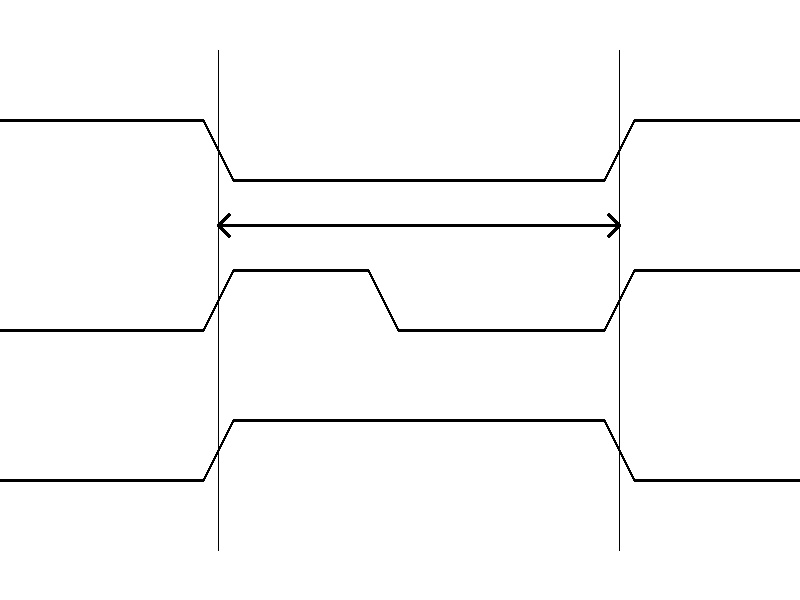double_arrow: (218, 210, 619, 240)
